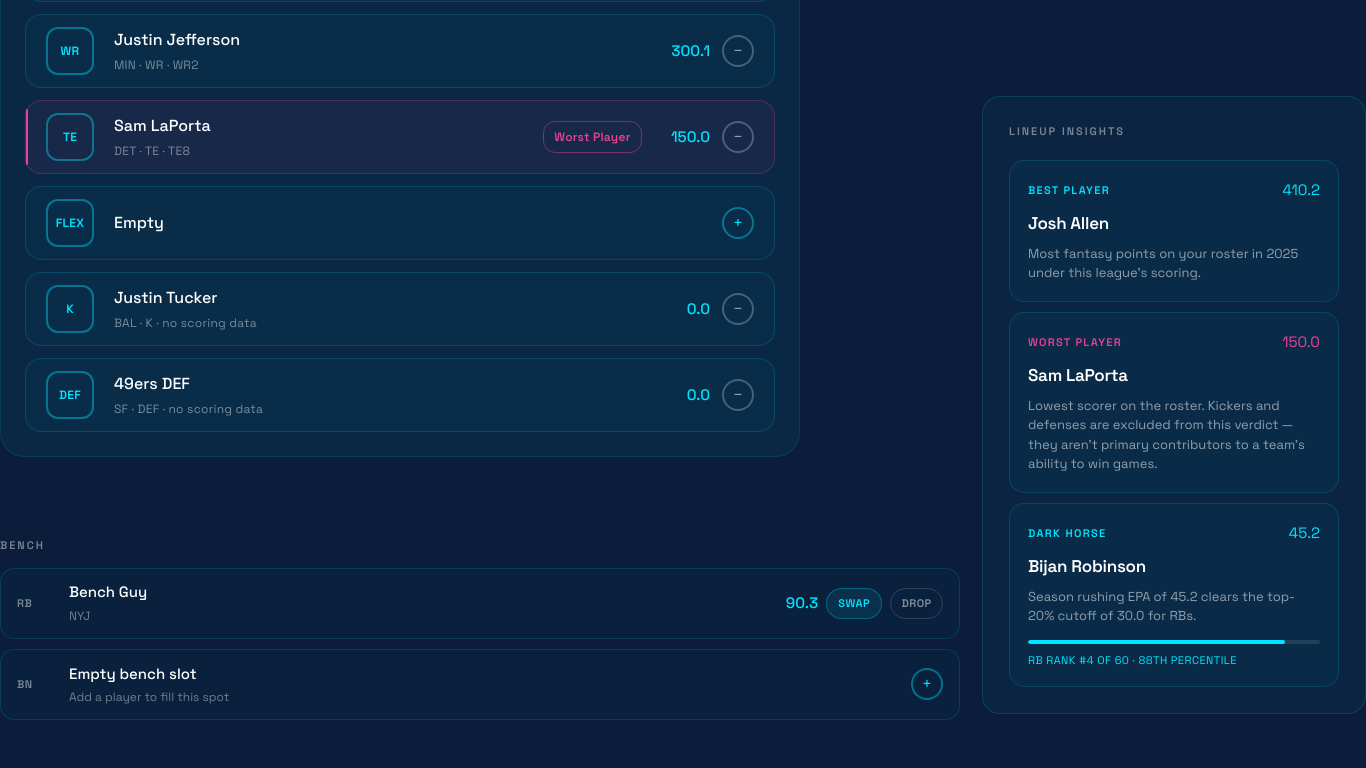
ViewLineupPanel › opens the add-player overlay for an empty bench slot and adds the selection via POST /add-player with slot BN
The width and height of the screenshot is (1366, 768).
(page scrolled)
Check: the text "Empty bench slot" is shown, box [69, 664, 197, 683]
Click the button named "Add player to bench".
click(927, 684)  # box [911, 668, 943, 700]
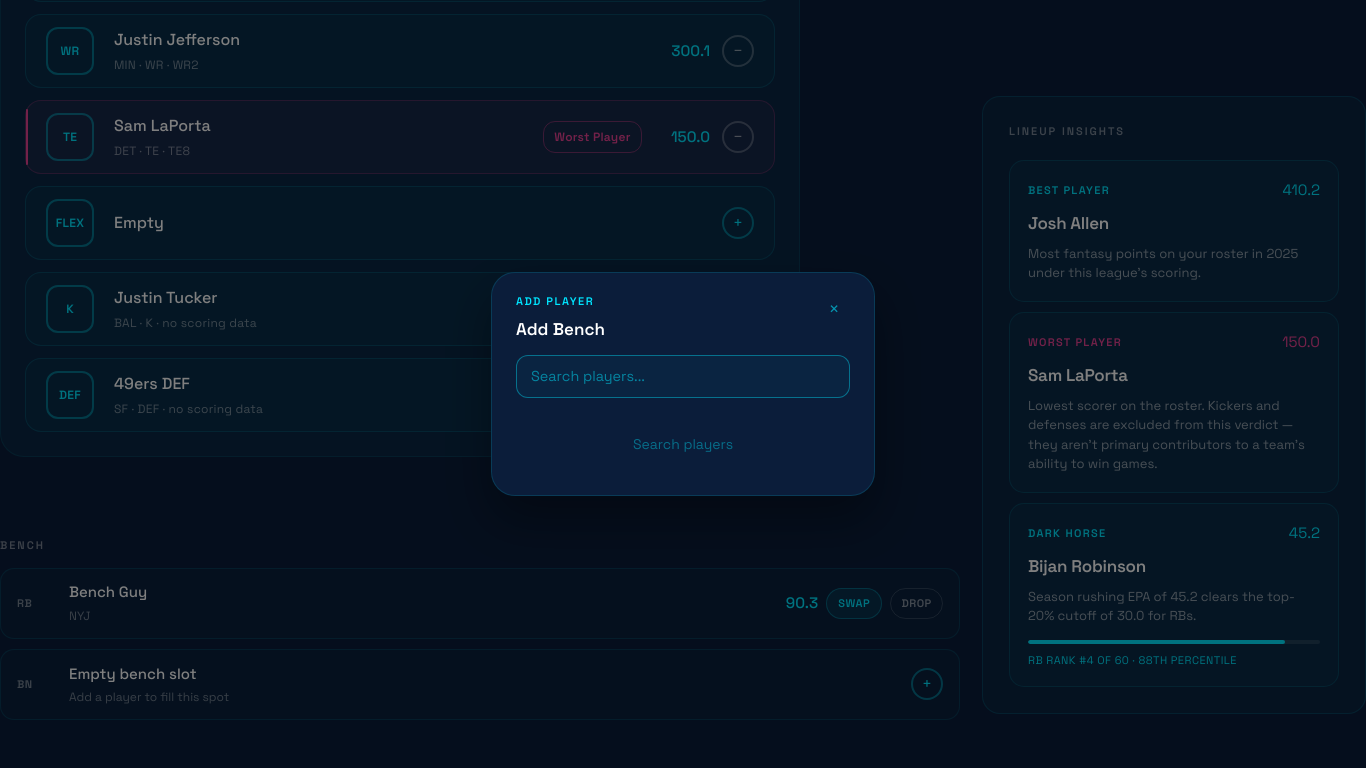
Check: the text "Add Bench" is shown, box [516, 317, 605, 343]
Type "Free Agent" into the field with placeholder "Search players...".
click(683, 376); type("Free Agent")  # box [516, 355, 850, 398]
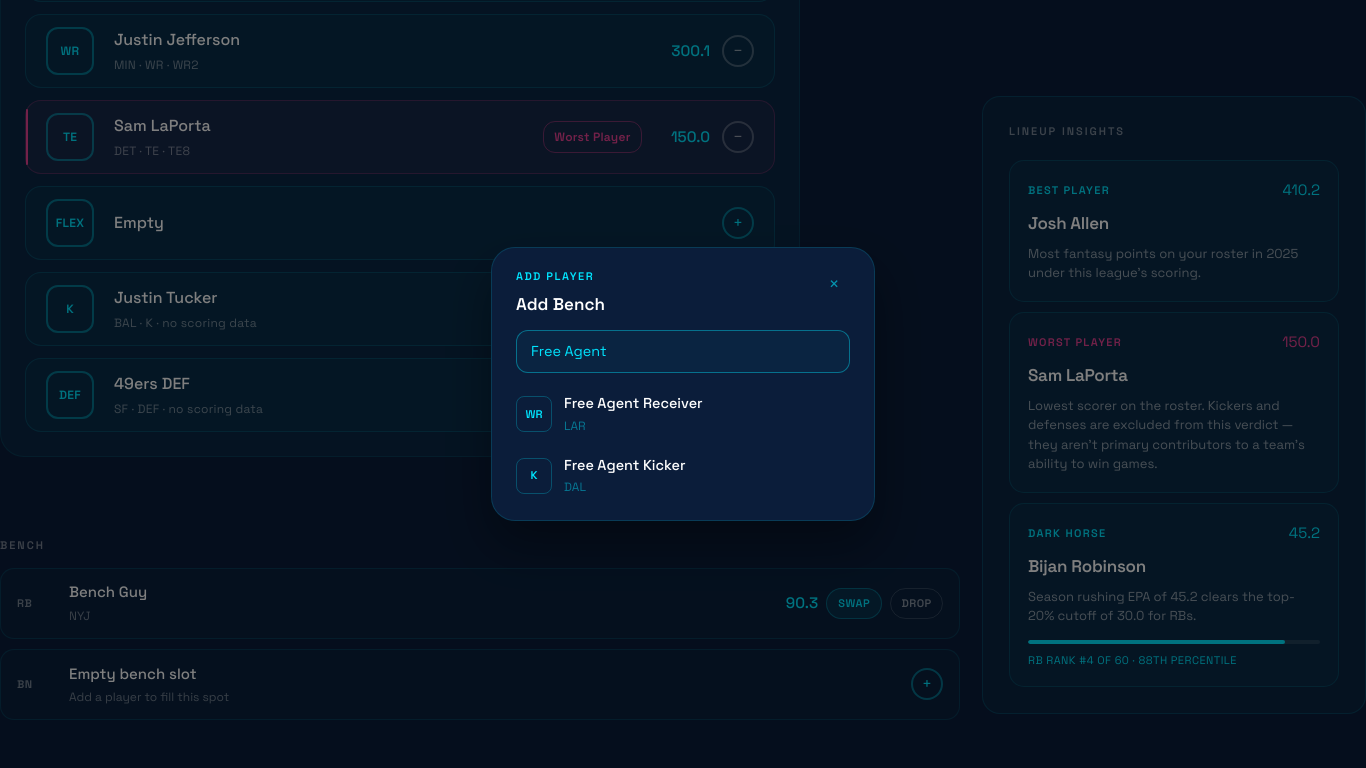
Check: the text "Free Agent Kicker" is shown
Click the text "Free Agent Kicker".
click(625, 466)  # box [564, 455, 686, 476]
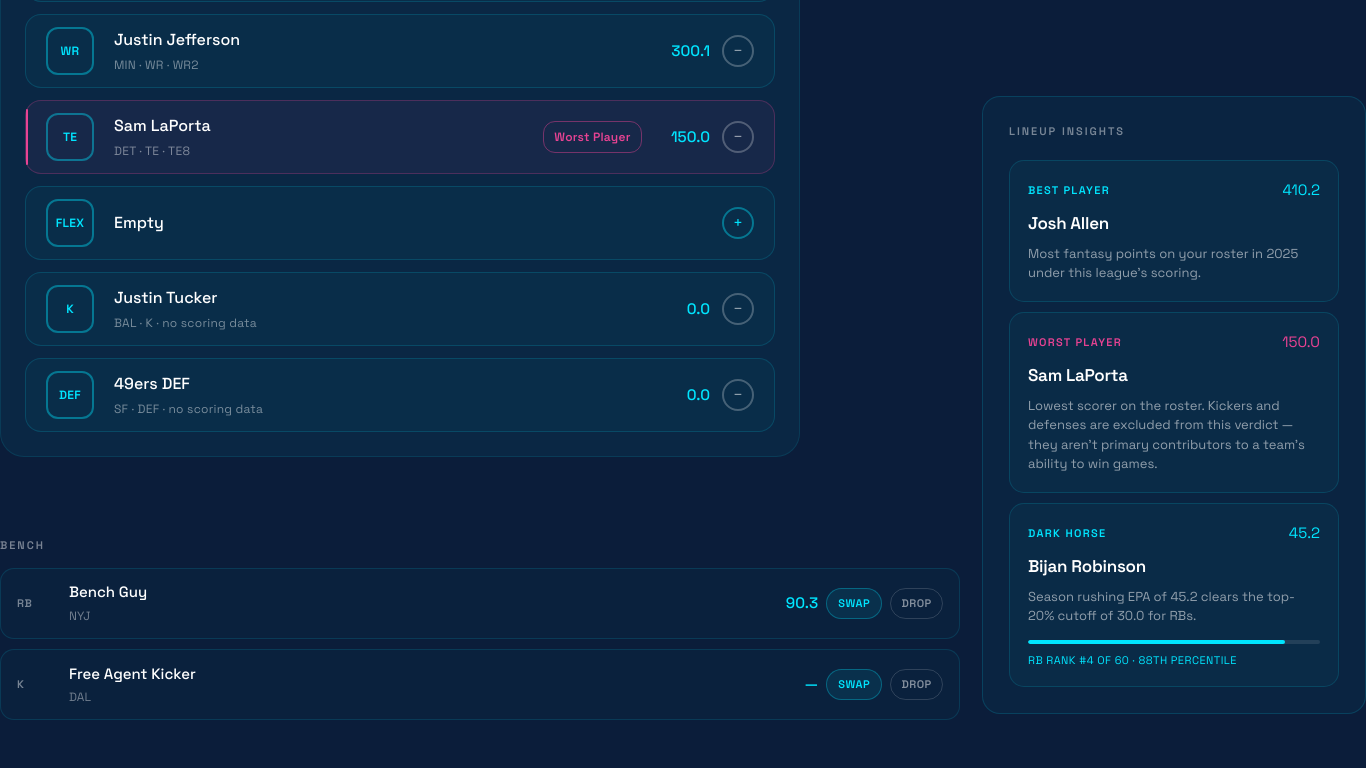
Check: the field with placeholder "Search players..." is not shown
Check: the text "Free Agent Kicker" is shown, box [69, 663, 196, 685]
Check: the text "Empty bench slot" is gone
